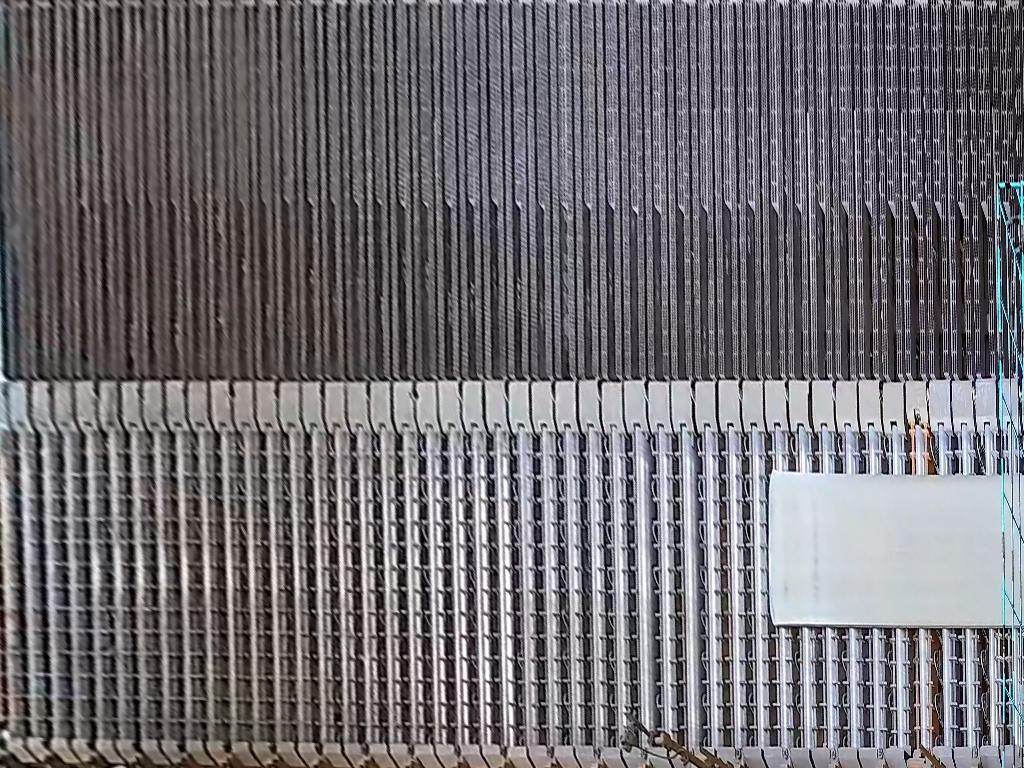steel: (770, 470, 1024, 630)
